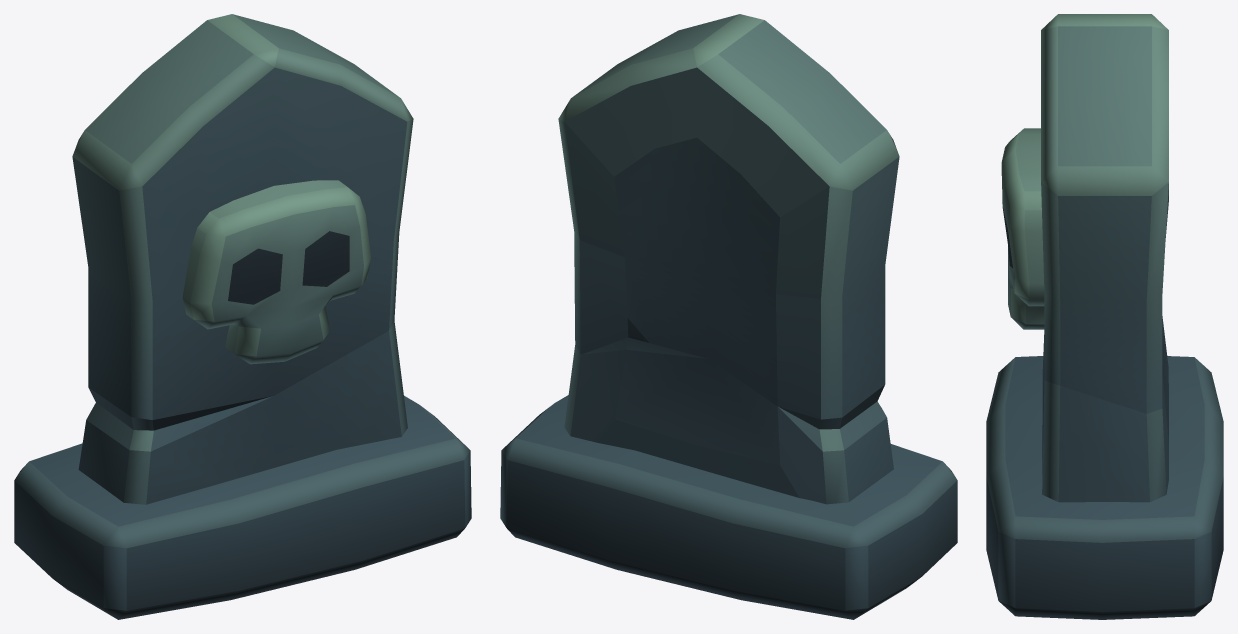
Rendered from grave_stone_1_LOD_setup.fbx.
3 views of the same model, side by side, from view 1: azimuth 30°, elevation 25°; view 2: azimuth 150°, elevation 25°; view 3: azimuth 270°, elevation 25° (orthographic).
Parts seen in each view (by area): view 1: grave_stone_1_LOD0; view 2: grave_stone_1_LOD0; view 3: grave_stone_1_LOD0.
Part boxes in pixels (x1,y1,x2,y2): grave_stone_1_LOD0: (14, 14, 471, 619); grave_stone_1_LOD0: (500, 14, 957, 619); grave_stone_1_LOD0: (986, 14, 1223, 619).
Size of what is drawn, in the model's own units: 93.9 by 120 by 50.1.
